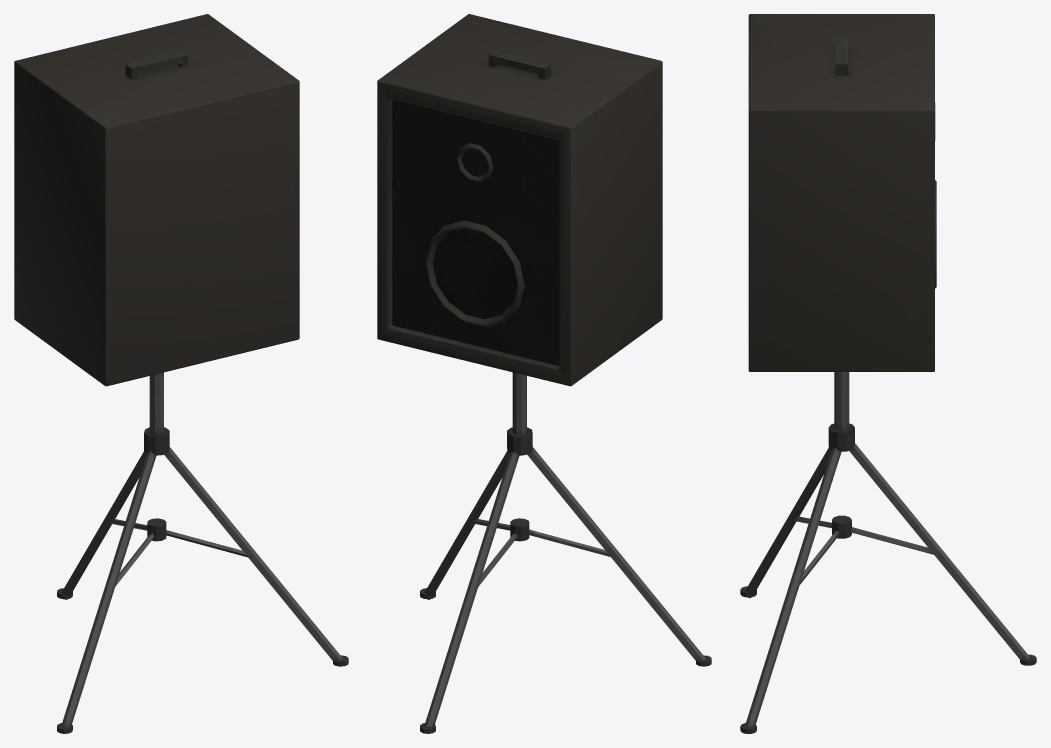
Rendered from speaker.glb.
3 views of the same model, side by side, from view 1: azimuth 30°, elevation 25°; view 2: azimuth 150°, elevation 25°; view 3: azimuth 270°, elevation 25° (orthographic).
Visible parts, largest first — view 1: speaker; view 2: speaker; view 3: speaker.
Boxes of the visible parts, x1,y1,x2,y2 form: speaker: (14,14,348,733); speaker: (377,14,711,733); speaker: (740,14,1036,733).
Size of the model in its own units: 0.8175 by 1.64 by 0.7149.
Materials: 1 (1 with a texture image).
